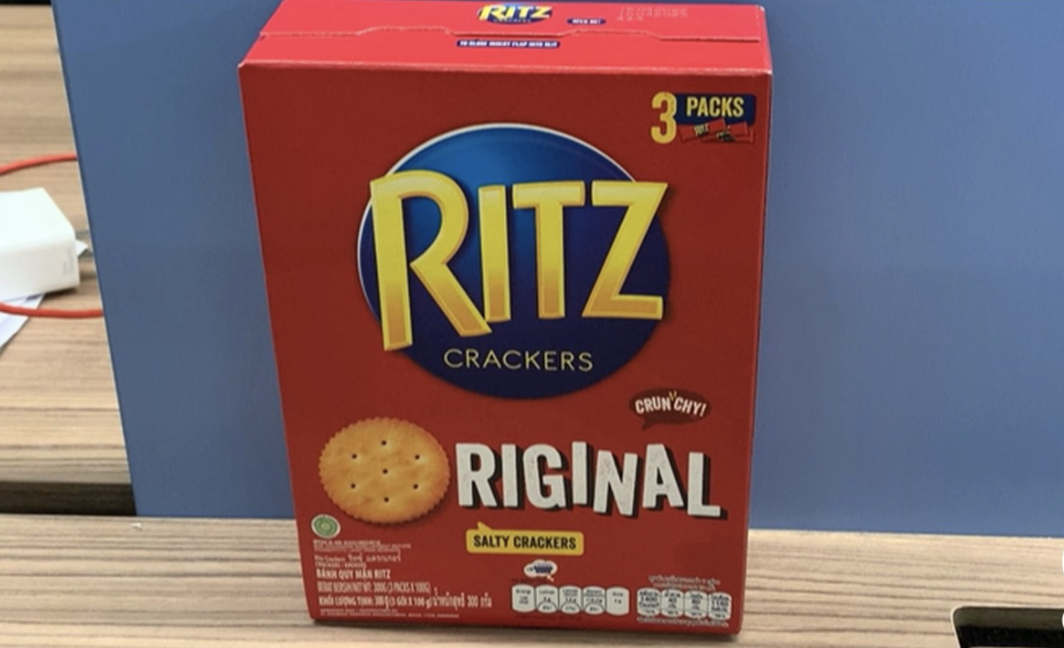crackers_450g: (292, 80, 744, 623)
